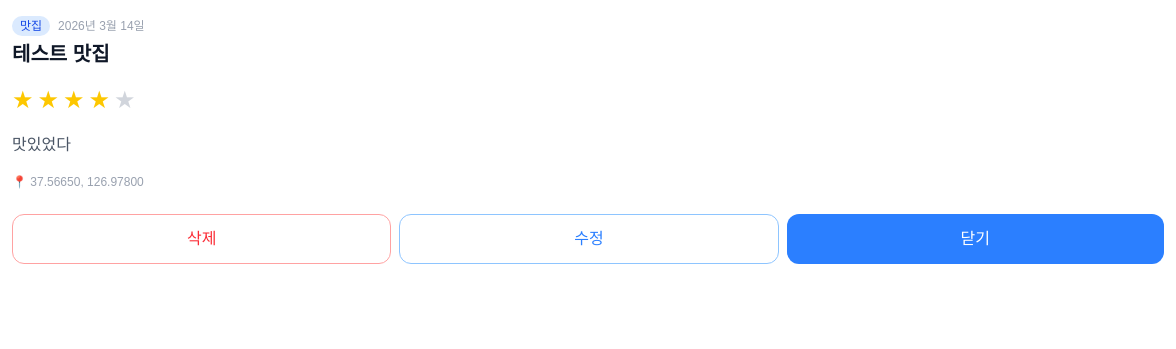
Test case: PlaceDetailSheet › 수정 버튼 클릭 시 편집 모드로 전환된다
This screenshot has width=1176, height=349.
Click the button "수정" at (589, 239), box [399,214,779,264]
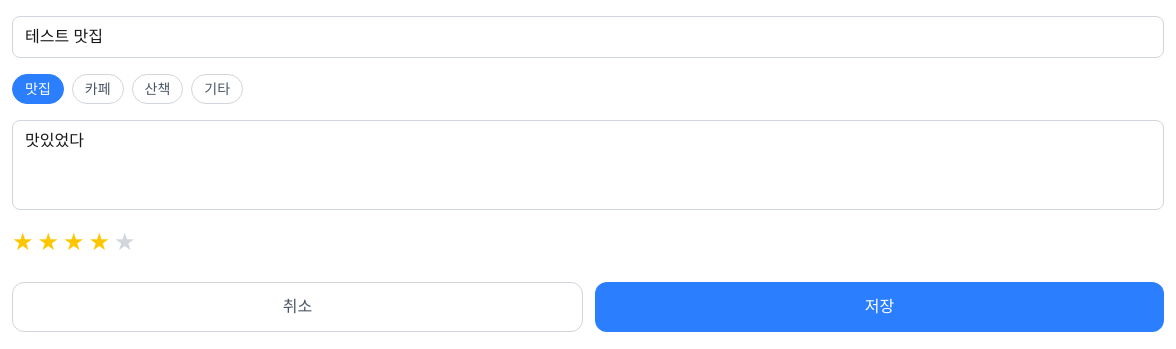
Expected: the field showing "테스트 맛집" is shown, [12,16,1164,58]
